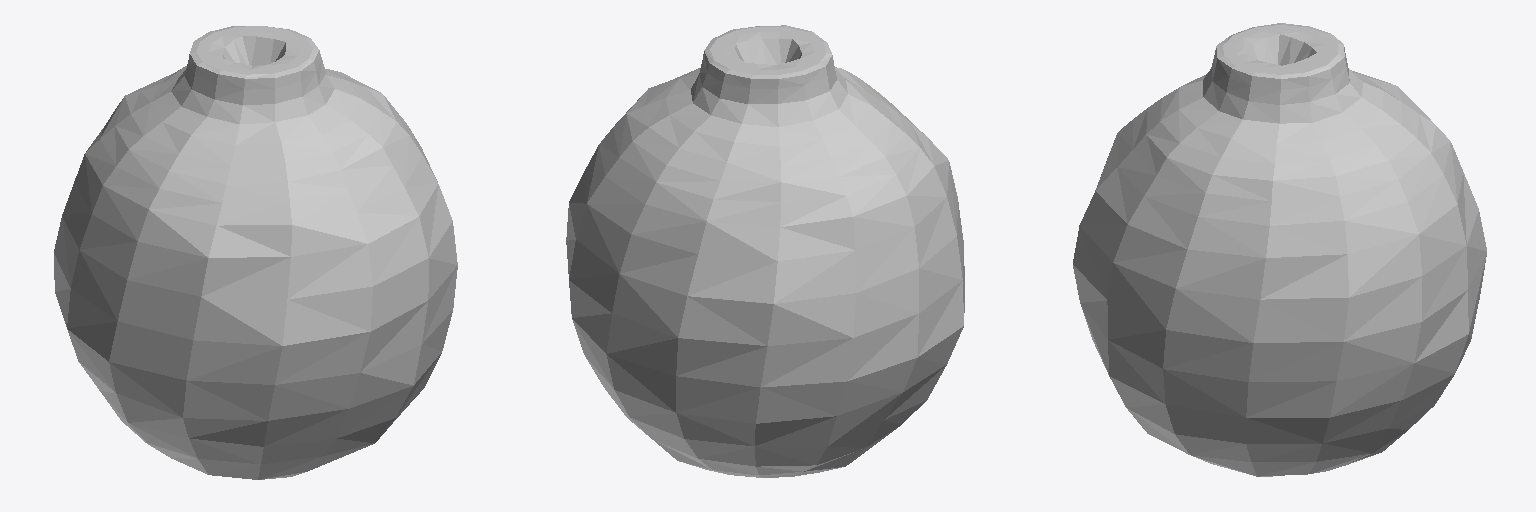
File: lowpoly 1.OBJ
3 renders of one model, left to right at view 1: azimuth 30°, elevation 25°; view 2: azimuth 150°, elevation 25°; view 3: azimuth 270°, elevation 25°, orthographic.
Parts seen in each view (by area): view 1: Group1710; view 2: Group1710; view 3: Group1710.
Part boxes in pixels (left/top/right/bottom): Group1710: left=54, top=26, right=457, bottom=479; Group1710: left=566, top=25, right=964, bottom=477; Group1710: left=1073, top=23, right=1486, bottom=476.
Bounding box in the file's own units: 176 × 202 × 184.